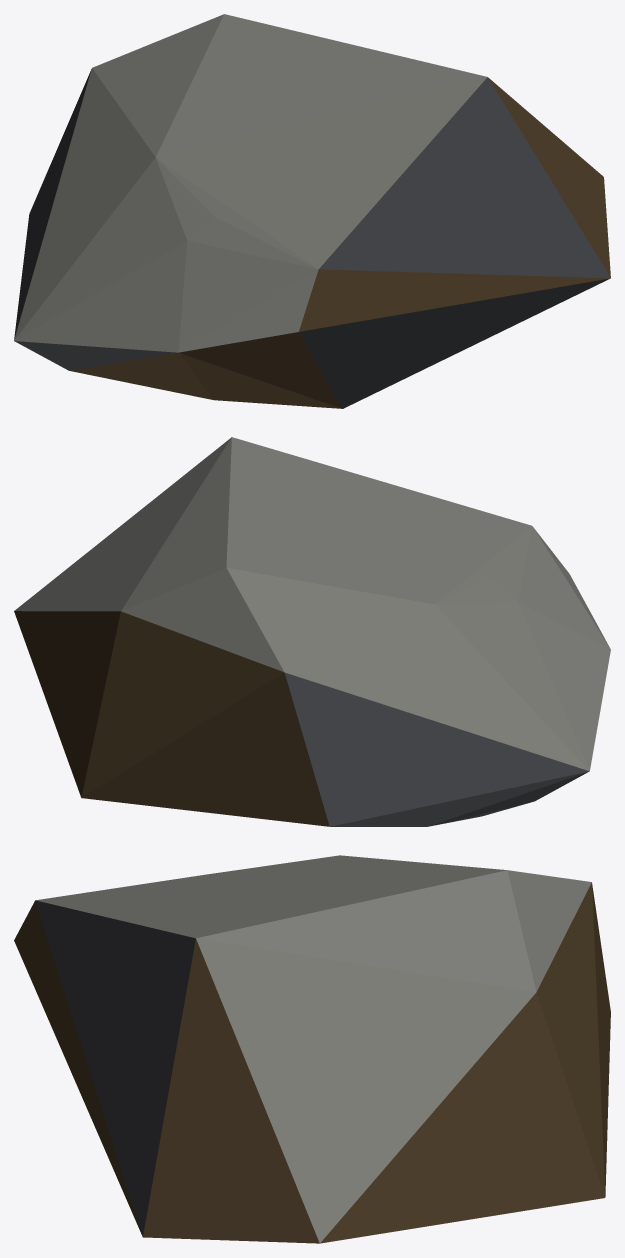
Rendered from rock_small.glb.
3 renders of one model, top to bottom at view 1: azimuth 30°, elevation 25°; view 2: azimuth 150°, elevation 25°; view 3: azimuth 270°, elevation 25°, orthographic. The views are drawn at different scales.
Parts seen in each view (by area): view 1: rock_small; view 2: rock_small; view 3: rock_small.
Boxes of the visible parts, left/top/right/bottom form: rock_small: left=14, top=14, right=610, bottom=408; rock_small: left=14, top=437, right=610, bottom=826; rock_small: left=14, top=855, right=610, bottom=1243.
Size of the model in its own units: 0.4117 by 0.176 by 0.3113.
